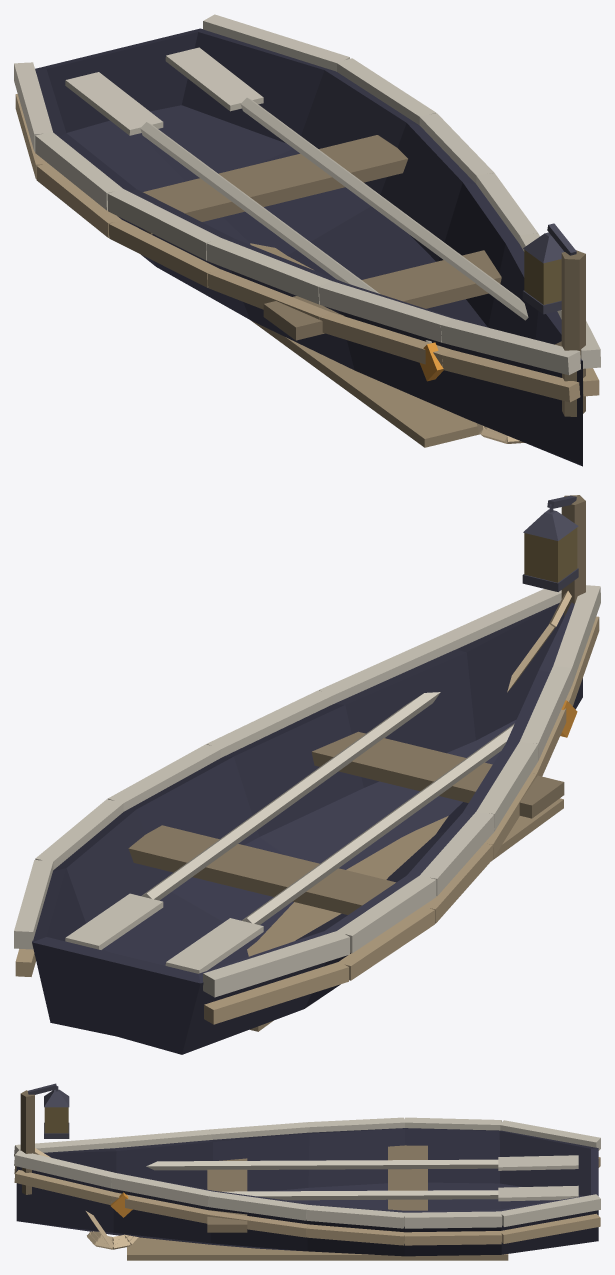
File: kindleby_skiff.glb
The picture shows the model from 3 angles, top to bottom: view 1: azimuth 30°, elevation 25°; view 2: azimuth 150°, elevation 25°; view 3: azimuth 270°, elevation 25°; orthographic projection. The views are drawn at different scales.
Parts seen in each view (by area): view 1: ink_l12, bone_d12, driftwood_d30, driftwood_d10, driftwood_d20, driftwood_d35, kindle_d50, ink_l20; view 2: ink_l12, bone_d12, driftwood_d30, driftwood_d10, driftwood_d20, kindle_d50, ink_l20, driftwood_d35, driftwood_l5; view 3: ink_l12, bone_d12, driftwood_d10, driftwood_d20, driftwood_d30, driftwood_d35, driftwood_l5, ink_l20, kindle_d50, ember_d10.
Boxes of the visible parts, box(x1,y1,x2,y2) form: ink_l12: box(35, 28, 582, 466); bone_d12: box(14, 14, 600, 375); driftwood_d30: box(143, 135, 501, 340); driftwood_d10: box(15, 94, 599, 402); driftwood_d20: box(250, 243, 479, 447); driftwood_d35: box(561, 250, 585, 416); kindle_d50: box(524, 250, 561, 304); ink_l20: box(522, 223, 576, 314); ink_l12: box(32, 602, 582, 1054); bone_d12: box(14, 585, 600, 997); driftwood_d30: box(128, 731, 564, 914); driftwood_d10: box(15, 616, 599, 1024); driftwood_d20: box(247, 798, 563, 1031); kindle_d50: box(524, 527, 577, 582); ink_l20: box(522, 495, 578, 591); driftwood_d35: box(561, 495, 585, 616); driftwood_l5: box(507, 591, 571, 692); ink_l12: box(16, 1128, 598, 1256); bone_d12: box(14, 1117, 600, 1228); driftwood_d10: box(14, 1157, 600, 1245); driftwood_d20: box(127, 1237, 508, 1260); driftwood_d30: box(207, 1145, 427, 1232); driftwood_d35: box(20, 1090, 34, 1194); driftwood_l5: box(35, 1148, 138, 1249); ink_l20: box(28, 1083, 69, 1138); kindle_d50: box(44, 1107, 68, 1133); ember_d10: box(110, 1192, 132, 1217).
Size of the model in its own units: 1.18 by 0.9114 by 2.92.
